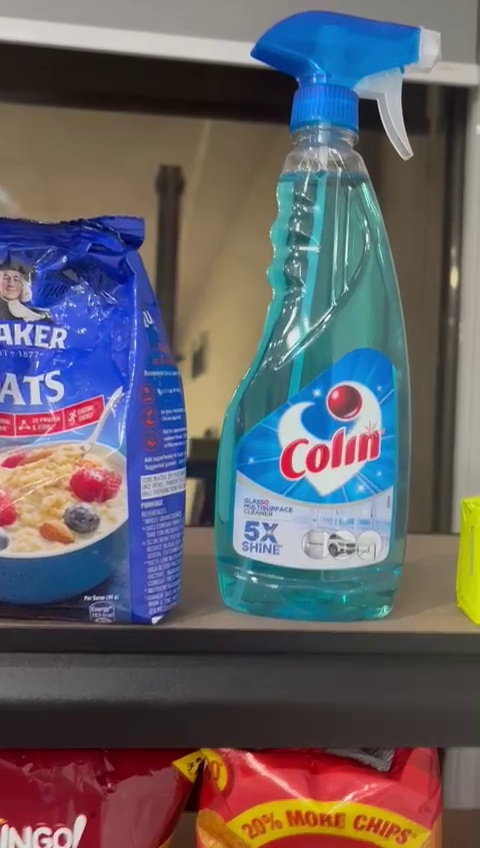Colin: (210, 0, 442, 620)
